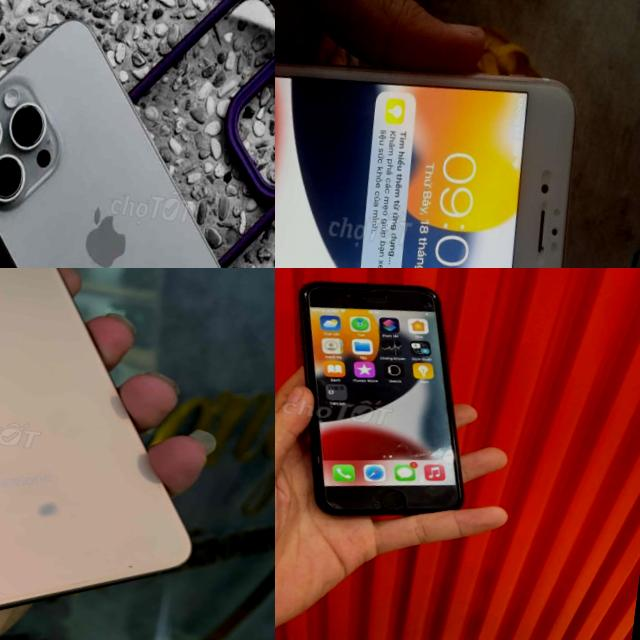scratch: (110, 550, 150, 582), (416, 286, 442, 310), (297, 284, 311, 307), (319, 498, 346, 508), (310, 448, 324, 466)
